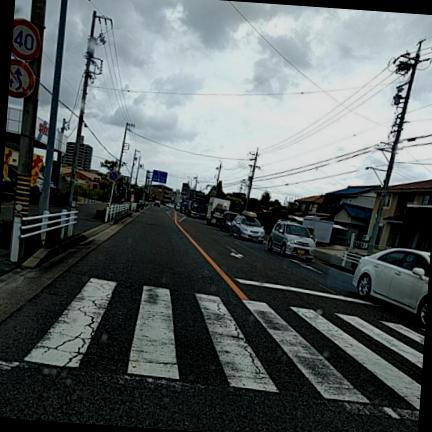Road: (0, 208, 424, 431)
